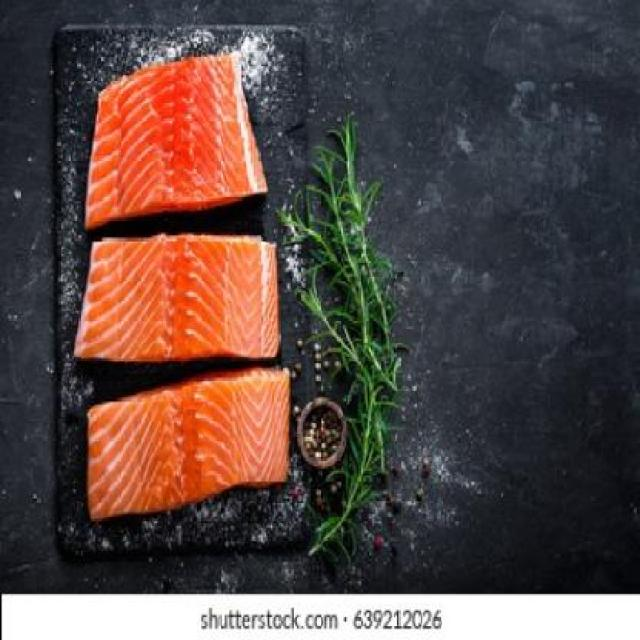salmon: (77, 46, 282, 227), (74, 362, 304, 508), (77, 225, 287, 366)
